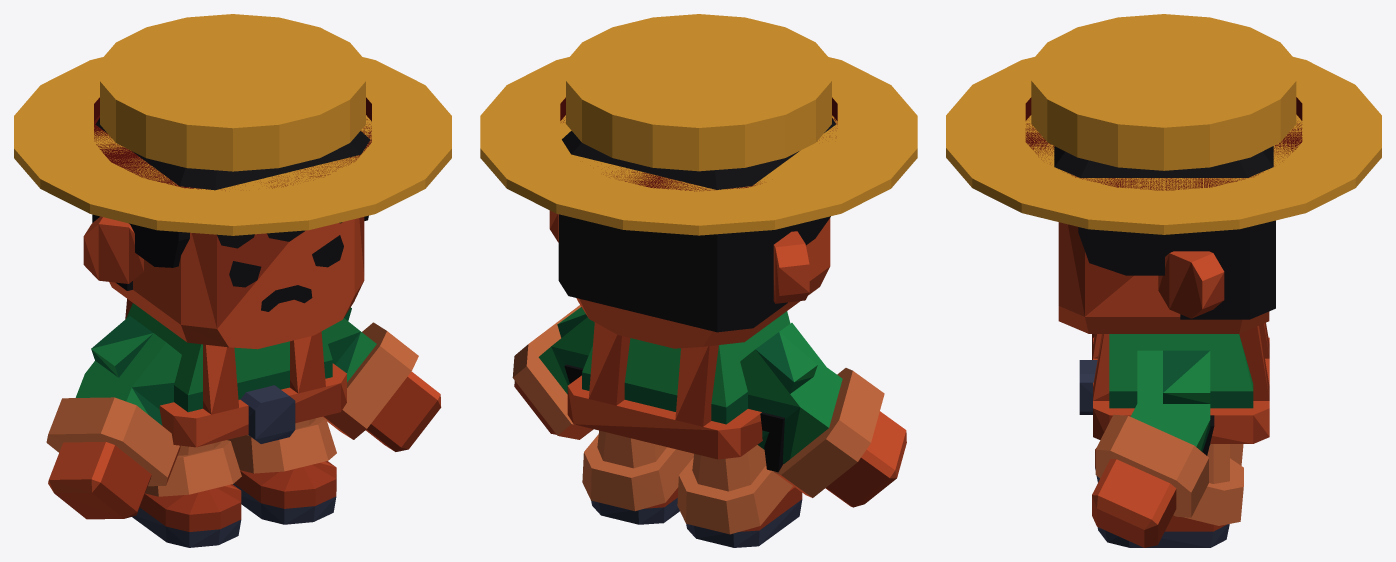
Rendered from Boy_idle_2.obj.
The picture shows the model from 3 angles, left to right: view 1: azimuth 30°, elevation 25°; view 2: azimuth 150°, elevation 25°; view 3: azimuth 270°, elevation 25°; orthographic projection.
Parts seen in each view (by area): view 1: Boy; view 2: Boy; view 3: Boy.
Boxes of the visible parts, x1,y1,x2,y2 form: Boy: [14, 14, 451, 547]; Boy: [480, 14, 917, 547]; Boy: [946, 14, 1381, 547].
Bounding box in the file's own units: 0.6712 × 0.7304 × 0.661.
